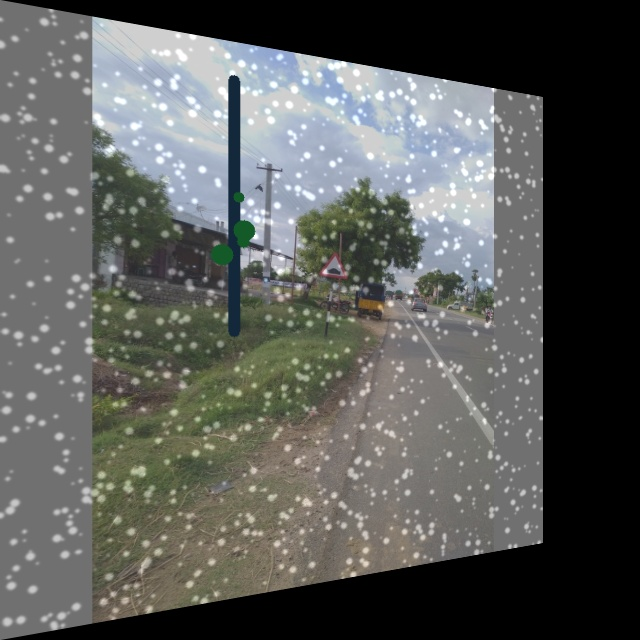Hump_or_Rough_Road: (317, 249, 346, 281)
